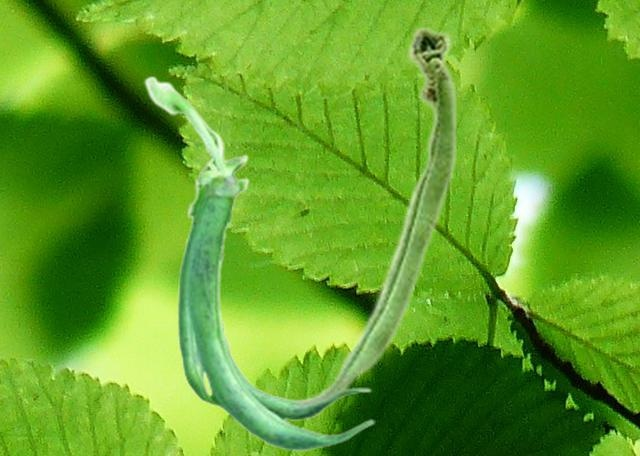french_bean: (143, 75, 374, 451), (293, 24, 457, 409)
